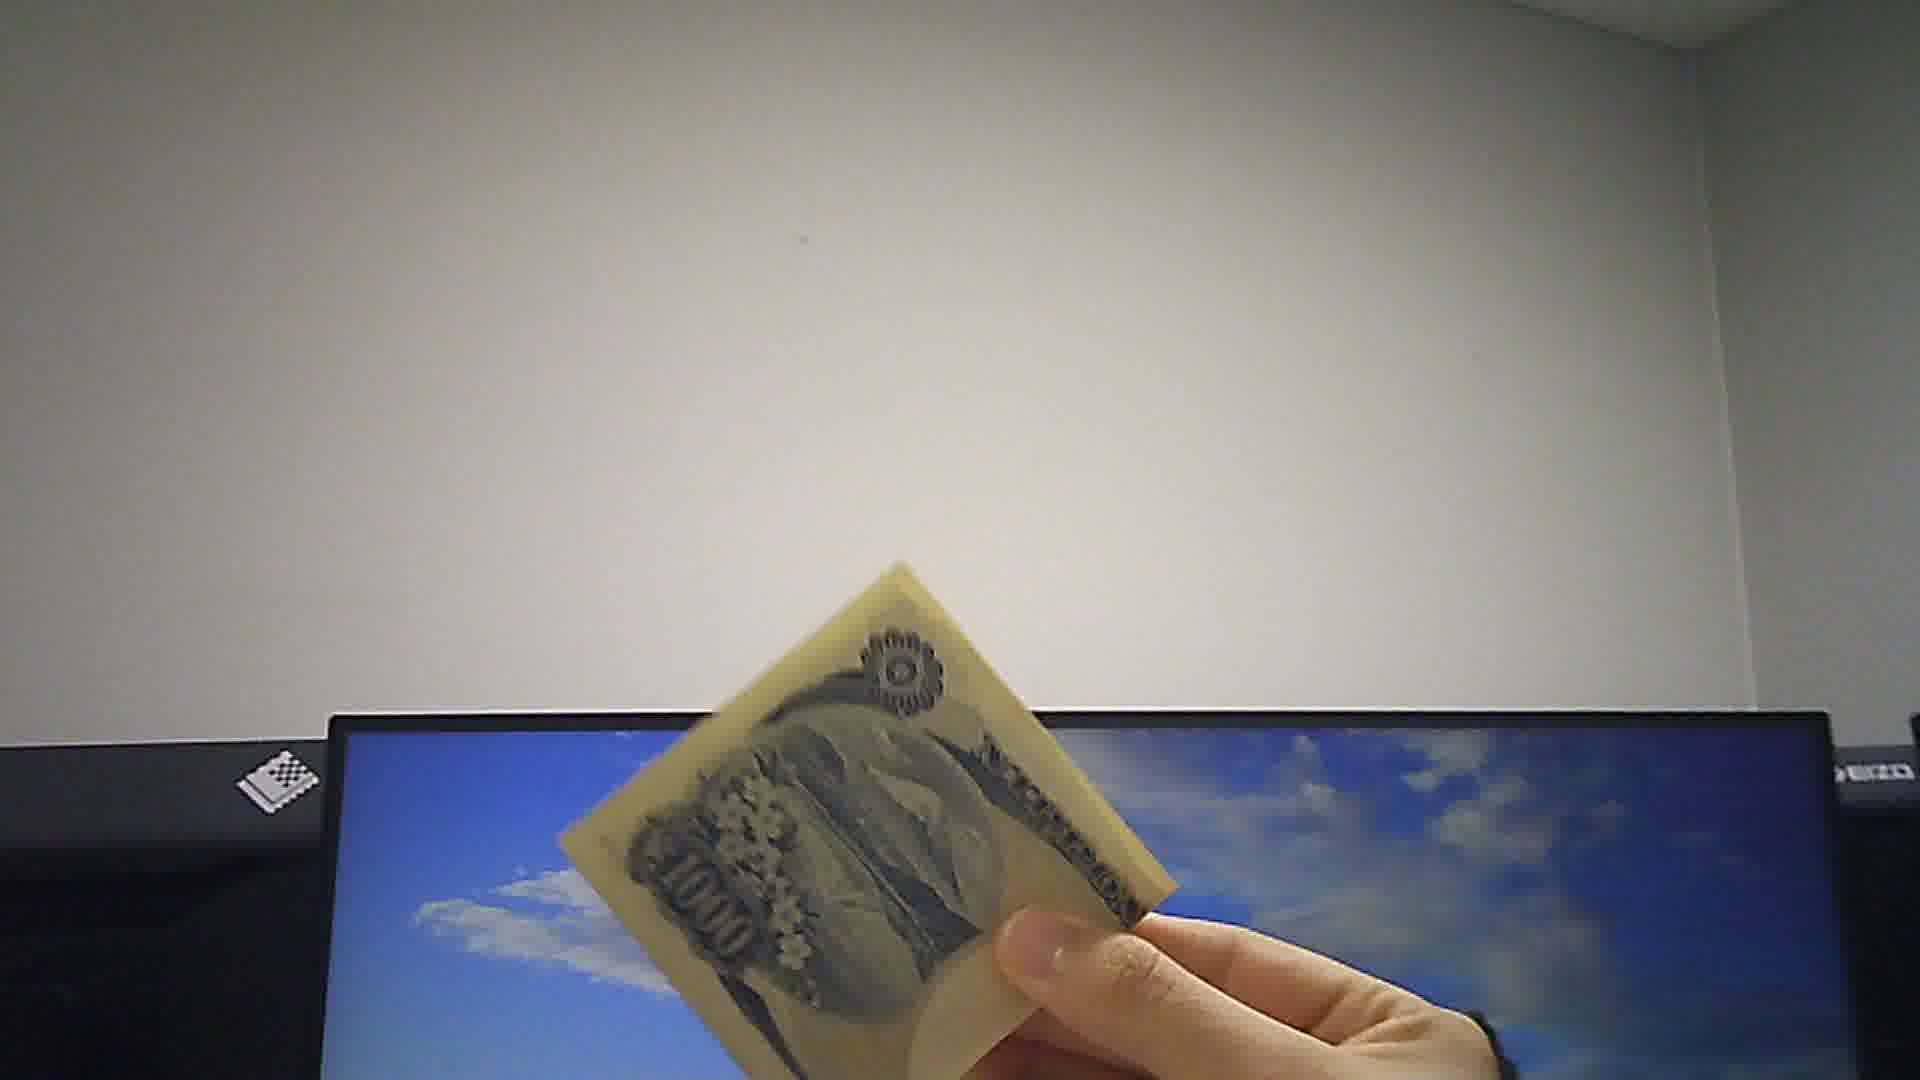1,000 Yen: (546, 564, 1138, 1079)
